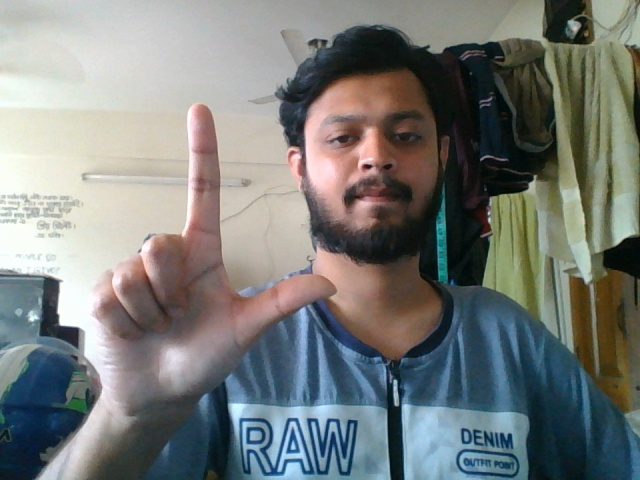la: (75, 99, 340, 433)
